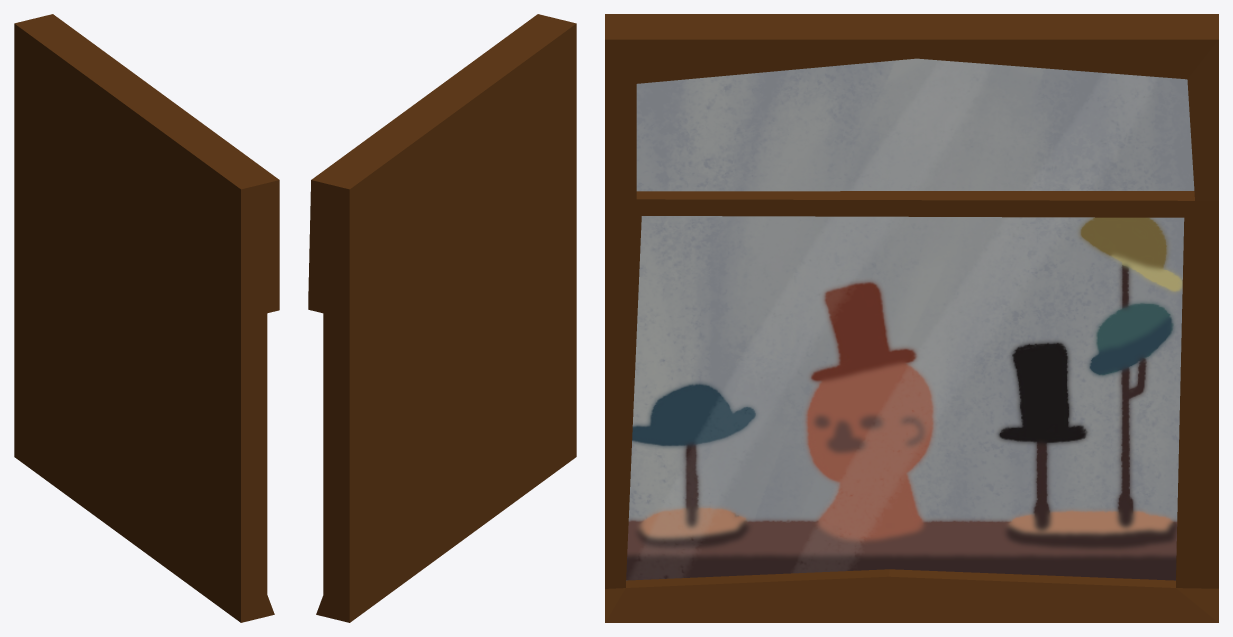
Rendered from HatShopWindow.fbx.
The picture shows the model from 3 angles, left to right: view 1: azimuth 30°, elevation 25°; view 2: azimuth 150°, elevation 25°; view 3: azimuth 270°, elevation 25°; orthographic projection. The views are drawn at different scales.
Parts seen in each view (by area): view 1: Cube.012; view 2: Cube.012; view 3: Cube.012.
Boxes of the visible parts, x1,y1,x2,y2 form: Cube.012: (14, 14, 279, 622); Cube.012: (308, 14, 576, 622); Cube.012: (605, 14, 1218, 622).
Size of the model in its own units: 25.37 by 253 by 240.
